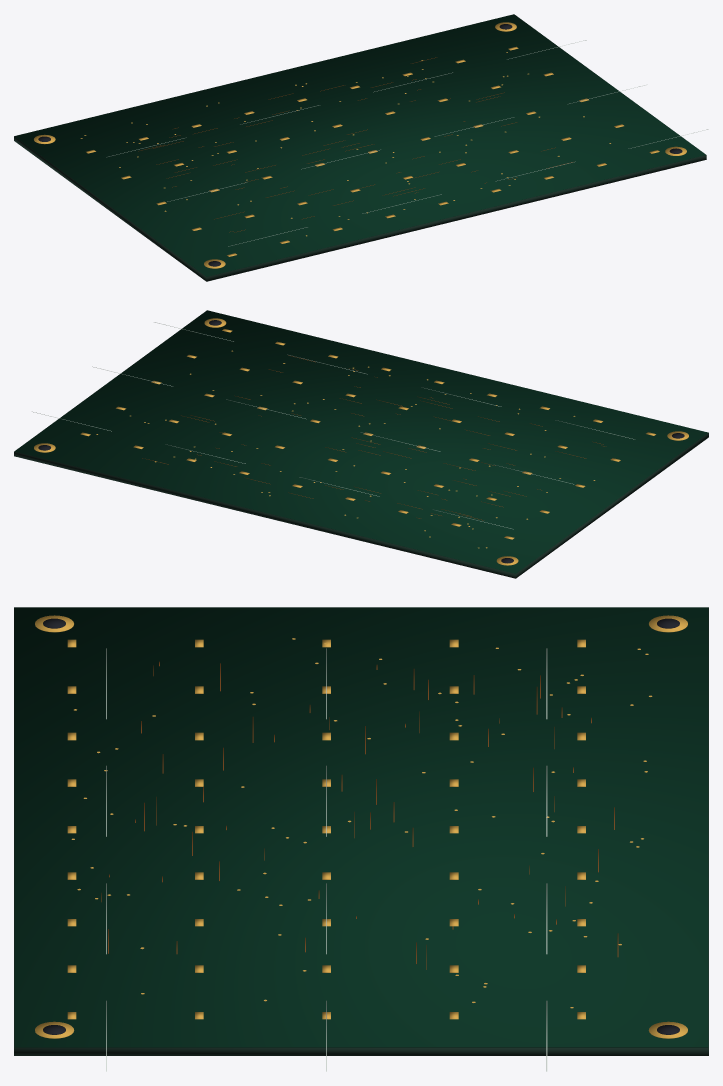
File: 57_L98_PIS6_Empty_FourLayer_PCB.fbx
3 renders of one model, top to bottom at view 1: azimuth 30°, elevation 25°; view 2: azimuth 150°, elevation 25°; view 3: azimuth 270°, elevation 25°, orthographic. The views are drawn at different scales.
Visible parts, largest first — view 1: Part_001, Part_000; view 2: Part_001, Part_000; view 3: Part_001, Part_000.
Part boxes in pixels (x1=…): Part_001: x1=14, y1=14, x2=705, y2=276; Part_000: x1=14, y1=15, x2=706, y2=281; Part_001: x1=14, y1=310, x2=707, y2=573; Part_000: x1=14, y1=310, x2=708, y2=578; Part_001: x1=14, y1=607, x2=708, y2=1047; Part_000: x1=14, y1=607, x2=708, y2=1055.
Size of the model in its own units: 0.19 by 0.12 by 0.00175.
